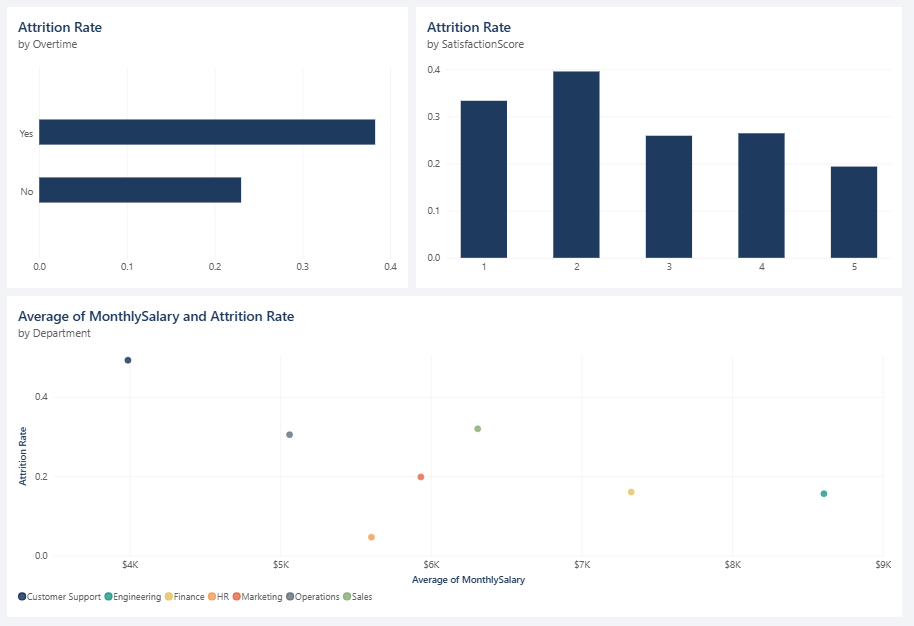

The dashboard page shown, as its layout file describes it:
{"tool":"powerbi","page":{"name":"Drivers & Engagement","canvas":[1920,1080],"ordinal":2},"visuals":[{"type":"clusteredBarChart","fields":{"Category":["employees.Overtime"],"Y":["DateTable.Attrition Rate"]},"box":[364.7,164.9,585,410],"z":0},{"type":"columnChart","fields":{"Category":["employees.SatisfactionScore"],"Y":["DateTable.Attrition Rate"]},"box":[961.5,164.9,709.1,410],"z":1},{"type":"scatterChart","fields":{"Series":["departments.Department"],"X":["Avg(employees.MonthlySalary)"],"Y":["DateTable.Attrition Rate"]},"box":[364.7,586.5,1305.8,468.3],"z":2}]}

Visuals, with their boxes on the page's 1920x1080 design canvas (x1, y1, x2, y2). These are canvas units, not pixel positions in the 914x626 screenshot, which may show the page scaled, cropped or inside an application window:
clusteredBarChart - employees.Overtime x DateTable.Attrition Rate: crop(365, 165, 950, 575)
columnChart - employees.SatisfactionScore x DateTable.Attrition Rate: crop(962, 165, 1671, 575)
scatterChart - departments.Department x Avg(employees.MonthlySalary): crop(365, 586, 1670, 1055)
